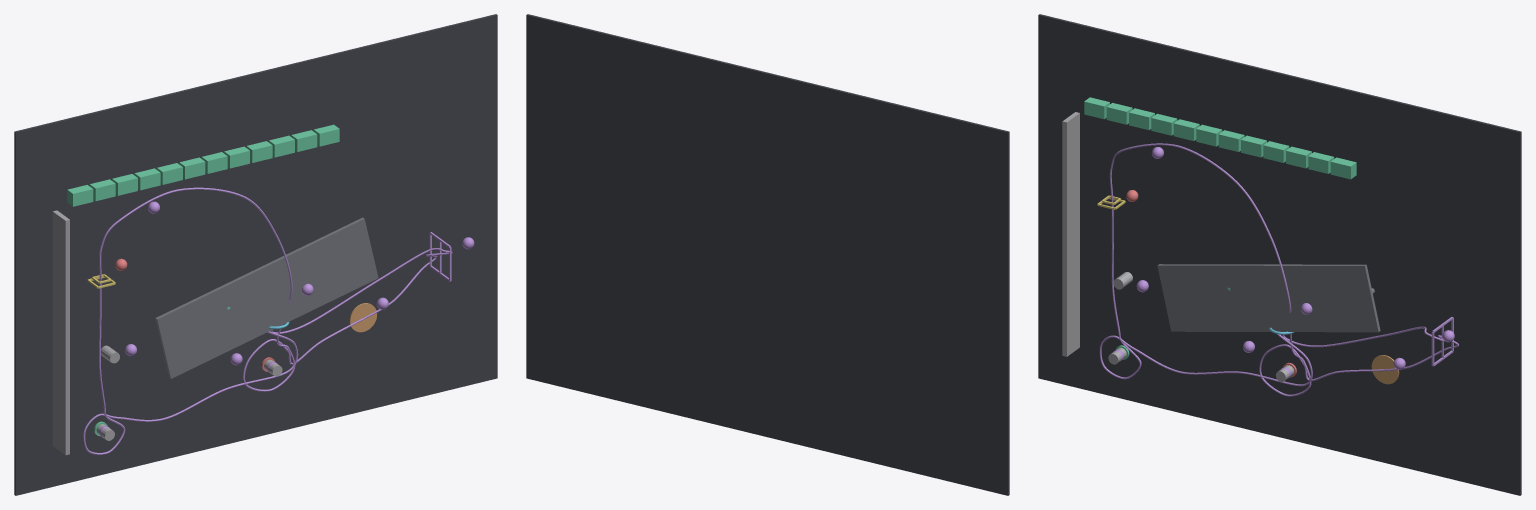
Rendered from track3.glb.
3 renders of one model, left to right at view 1: azimuth 30°, elevation 25°; view 2: azimuth 150°, elevation 25°; view 3: azimuth 330°, elevation 25°, orthographic.
Parts seen in each view (by area): view 1: world; view 2: world; view 3: world.
Boxes of the visible parts, x1,y1,x2,y2 form: world: (14, 14, 497, 495); world: (526, 14, 1009, 495); world: (1038, 14, 1521, 495).
Size of the model in its own units: 86 by 62 by 7.9.
